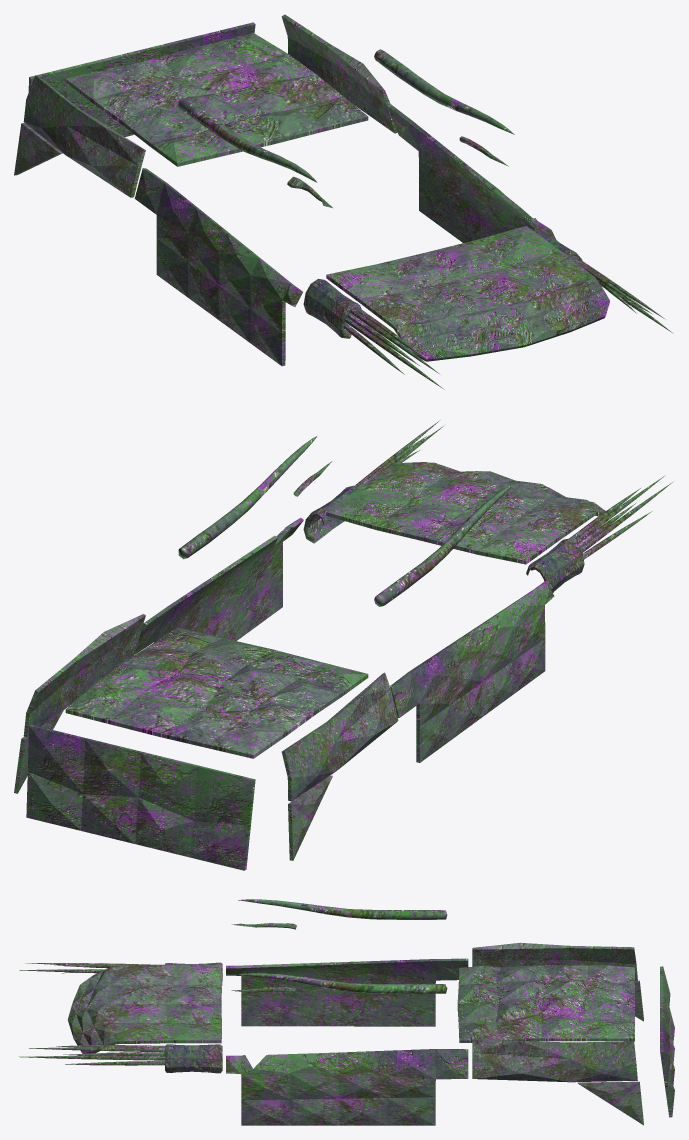
Rendered from Truck Armor.fbx.
3 renders of one model, top to bottom at view 1: azimuth 30°, elevation 25°; view 2: azimuth 150°, elevation 25°; view 3: azimuth 270°, elevation 25°, orthographic. The views are drawn at different scales.
Visible parts, largest first — view 1: Armor_Panel_07_Geo, Armor_Panel_08_Geo, Armor_Panel_10_Geo, Armor_Panel_04_Geo, Armor_Panel_02_Geo, Front_Spikes, Armor_Panel_05_Geo, Spike_01_Geo, Armor_Panel_09_Geo, Spike_02_Geo; view 2: Armor_Panel_08_Geo, Armor_Panel_05_Geo, Armor_Panel_07_Geo, Armor_Panel_10_Geo, Armor_Panel_04_Geo, Armor_Panel_02_Geo, Front_Spikes, Spike_01_Geo, Armor_Panel_09_Geo; view 3: Armor_Panel_02_Geo, Armor_Panel_08_Geo, Armor_Panel_10_Geo, Armor_Panel_07_Geo, Armor_Panel_04_Geo, Front_Spikes, Spike_01_Geo, Armor_Panel_09_Geo, Armor_Panel_05_Geo, Spike_02_Geo.
Boxes of the visible parts, x1=… form: Armor_Panel_07_Geo: x1=326, y1=226, x2=609, y2=361; Armor_Panel_08_Geo: x1=65, y1=33, x2=368, y2=166; Armor_Panel_10_Geo: x1=134, y1=168, x2=302, y2=366; Armor_Panel_04_Geo: x1=23, y1=14, x2=397, y2=197; Armor_Panel_02_Geo: x1=387, y1=104, x2=555, y2=242; Front_Spikes: x1=303, y1=226, x2=673, y2=388; Armor_Panel_05_Geo: x1=28, y1=22, x2=255, y2=136; Spike_01_Geo: x1=178, y1=49, x2=514, y2=182; Armor_Panel_09_Geo: x1=14, y1=123, x2=62, y2=175; Spike_02_Geo: x1=287, y1=136, x2=508, y2=207; Armor_Panel_08_Geo: x1=65, y1=627, x2=368, y2=758; Armor_Panel_05_Geo: x1=26, y1=724, x2=255, y2=870; Armor_Panel_07_Geo: x1=326, y1=462, x2=605, y2=564; Armor_Panel_10_Geo: x1=390, y1=581, x2=554, y2=762; Armor_Panel_04_Geo: x1=23, y1=614, x2=398, y2=801; Armor_Panel_02_Geo: x1=135, y1=517, x2=303, y2=654; Front_Spikes: x1=303, y1=420, x2=672, y2=592; Spike_01_Geo: x1=178, y1=436, x2=514, y2=606; Armor_Panel_09_Geo: x1=14, y1=710, x2=332, y2=860; Armor_Panel_02_Geo: x1=226, y1=1049, x2=468, y2=1125; Armor_Panel_08_Geo: x1=457, y1=965, x2=634, y2=1042; Armor_Panel_10_Geo: x1=226, y1=958, x2=468, y2=1026; Armor_Panel_07_Geo: x1=67, y1=964, x2=221, y2=1053; Armor_Panel_04_Geo: x1=472, y1=942, x2=637, y2=1082; Front_Spikes: x1=19, y1=962, x2=222, y2=1073; Spike_01_Geo: x1=237, y1=899, x2=447, y2=994; Armor_Panel_09_Geo: x1=577, y1=980, x2=643, y2=1125; Armor_Panel_05_Geo: x1=660, y1=966, x2=674, y2=1117; Spike_02_Geo: x1=231, y1=923, x2=296, y2=992.
Size of the model in its own units: 2.11 by 1.29 by 5.53.
